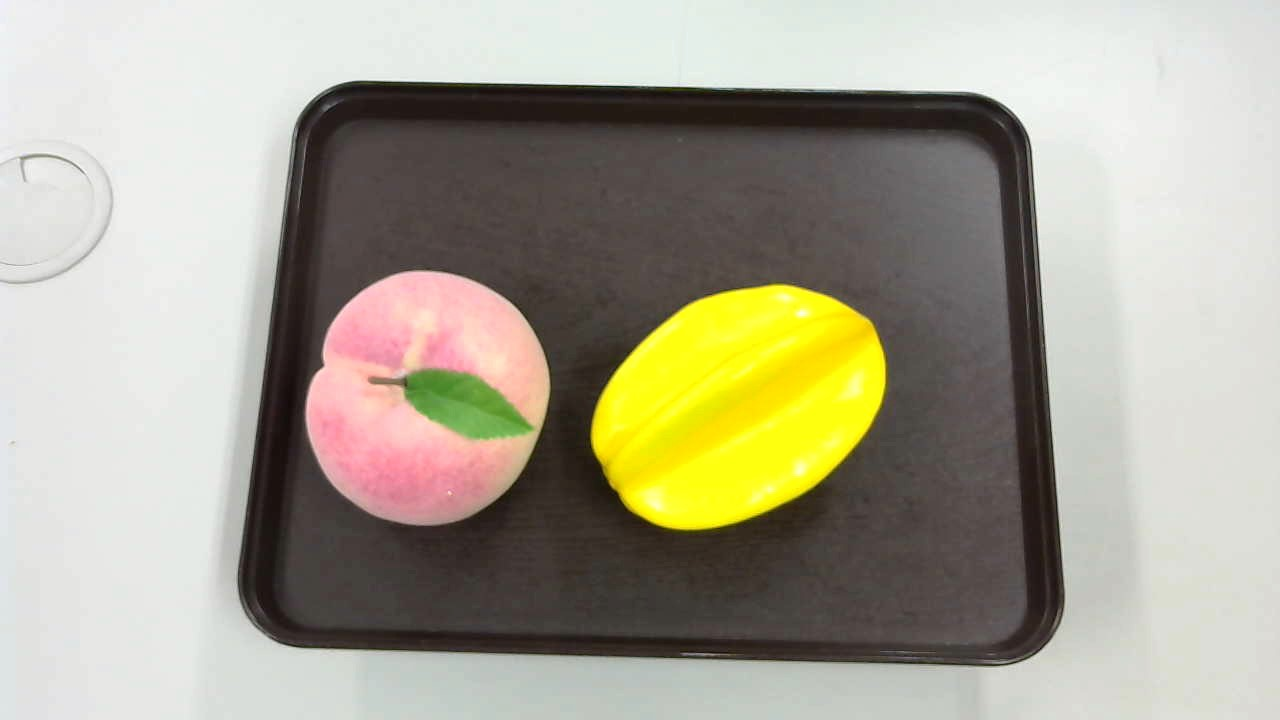peach: (296, 270, 554, 541)
star fruit: (580, 283, 893, 528)
